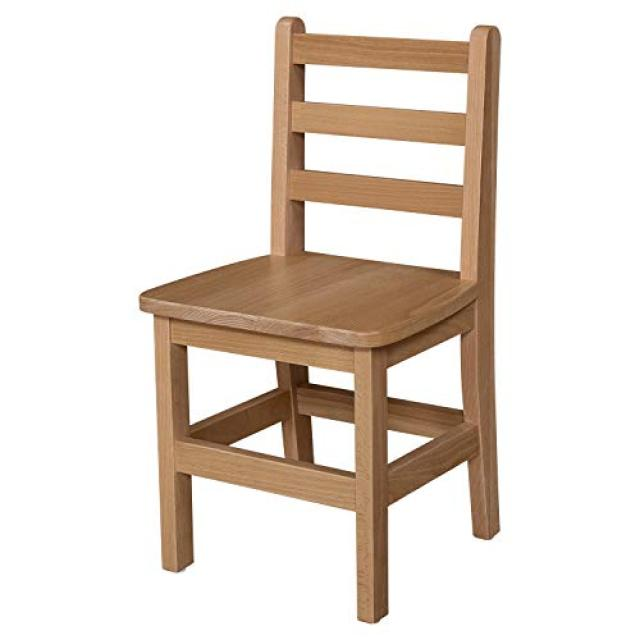obstacle: (97, 15, 552, 640)
